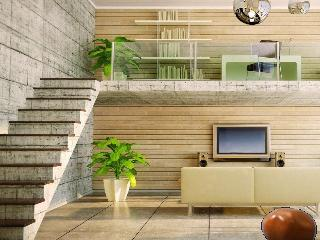potato: (262, 208, 317, 240)
